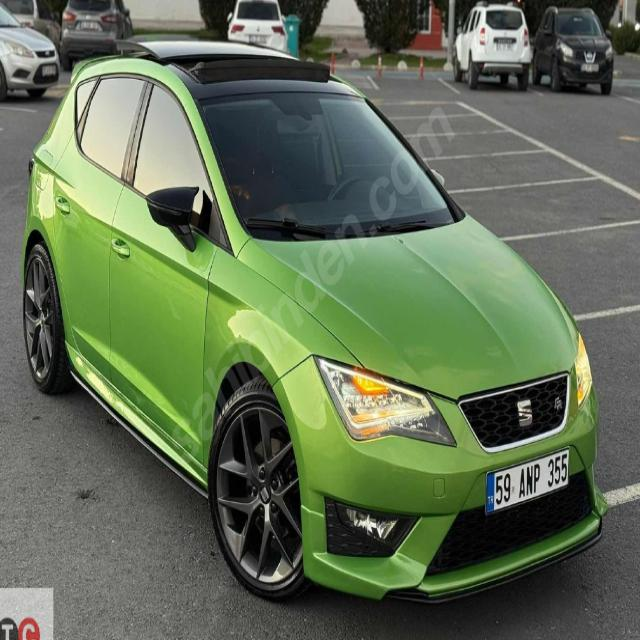seat: (515, 396, 533, 430)
